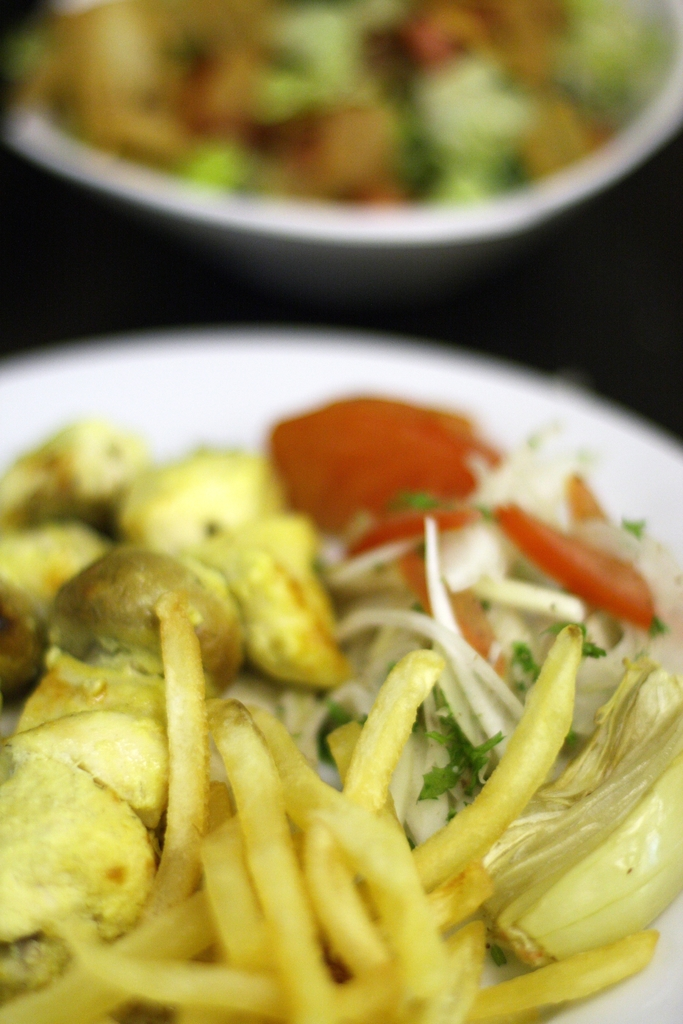French fries: (10, 631, 569, 1009)
